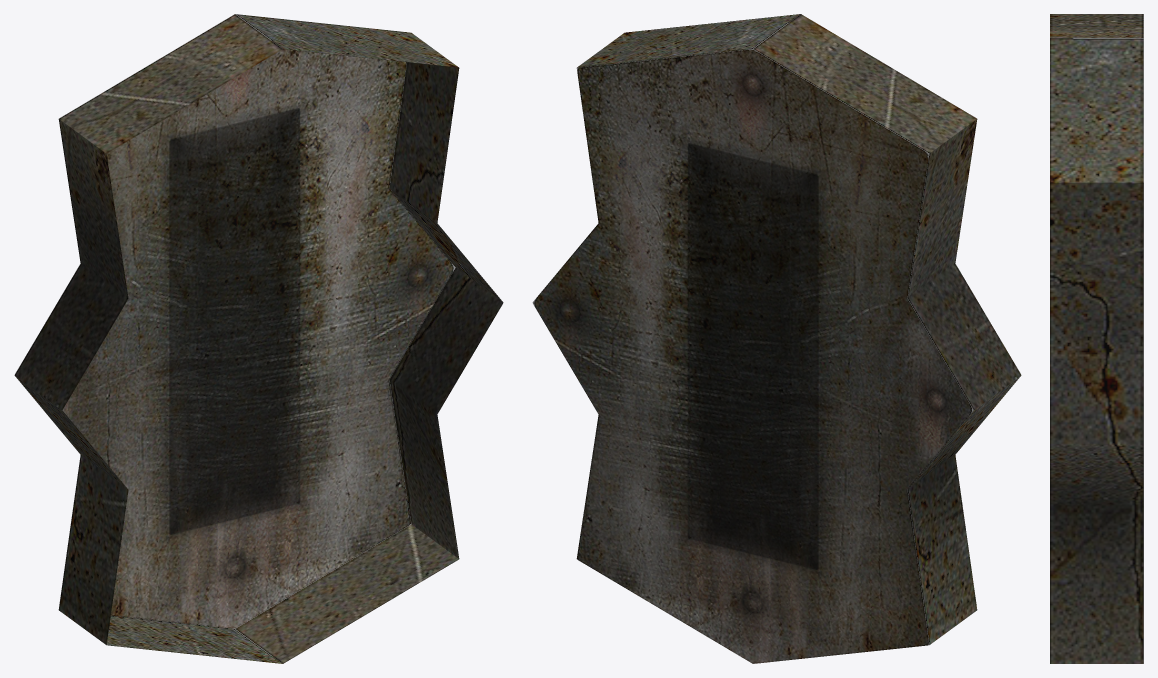
The model's file is Prop_Am_LeverBase_a.fbx.
The picture shows the model from 3 angles, left to right: view 1: azimuth 30°, elevation 25°; view 2: azimuth 150°, elevation 25°; view 3: azimuth 270°, elevation 25°; orthographic projection. The views are drawn at different scales.
Parts seen in each view (by area): view 1: Prop_Am_LeverBase_a; view 2: Prop_Am_LeverBase_a; view 3: Prop_Am_LeverBase_a.
Boxes of the visible parts, x1,y1,x2,y2 form: Prop_Am_LeverBase_a: (14,14,503,663); Prop_Am_LeverBase_a: (532,14,1021,663); Prop_Am_LeverBase_a: (1050,14,1143,663).
Size of the model in its own units: 0.6703 by 0.8925 by 0.1263.
1 material, 1 textured.
